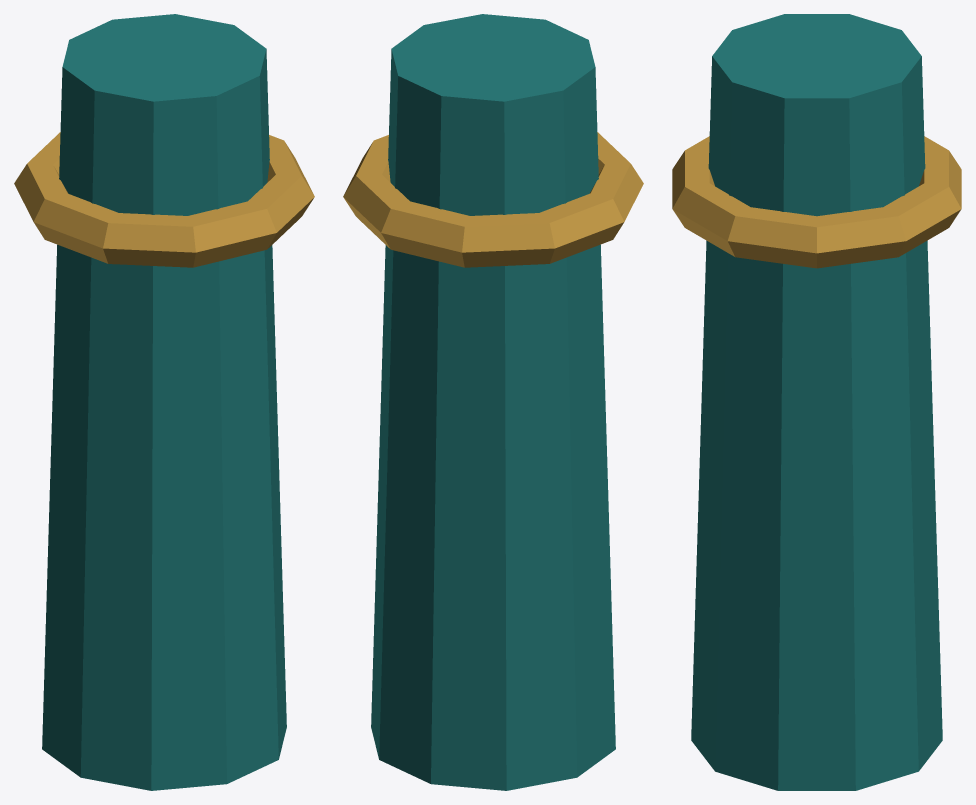
Rendered from prop_bollard.glb.
3 views of the same model, side by side, from view 1: azimuth 30°, elevation 25°; view 2: azimuth 150°, elevation 25°; view 3: azimuth 270°, elevation 25° (orthographic).
Parts seen in each view (by area): view 1: rough; view 2: rough; view 3: rough.
Part boxes in pixels (box(x1,y1,x2,y2)): rough: box(14, 14, 314, 790); rough: box(343, 14, 643, 790); rough: box(672, 14, 961, 790).
Size of the model in its own units: 0.29 by 0.72 by 0.2758.
